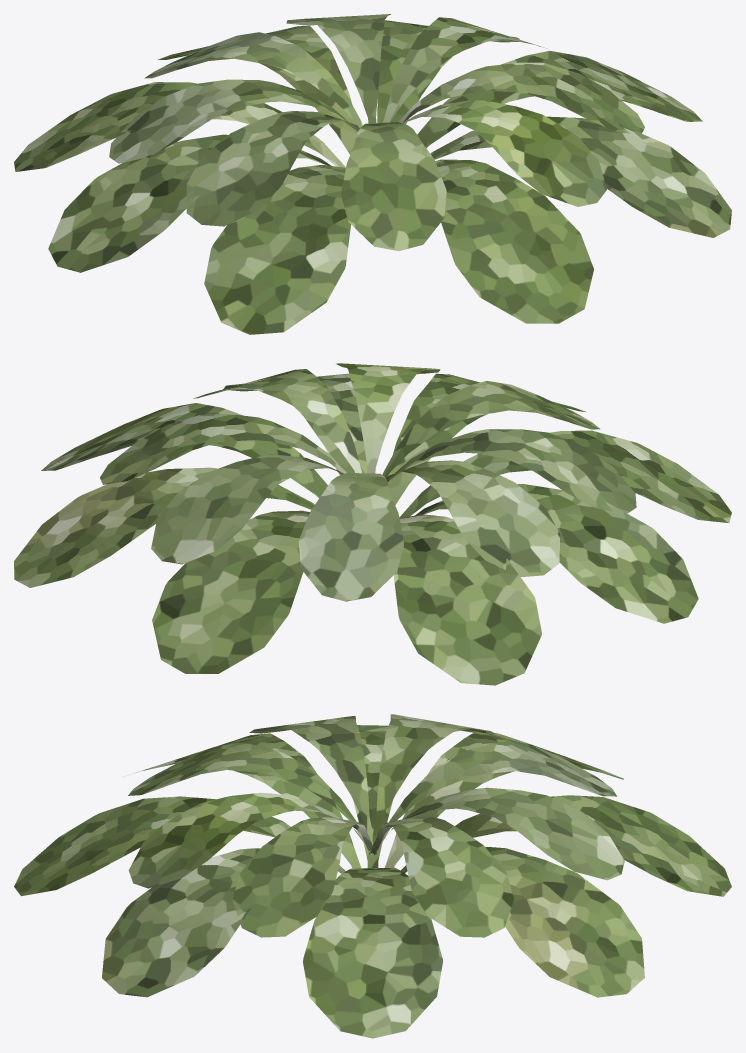
File: herb.fbx
3 views of the same model, one above another, from view 1: azimuth 30°, elevation 25°; view 2: azimuth 150°, elevation 25°; view 3: azimuth 270°, elevation 25° (orthographic). The views are drawn at different scales.
Visible parts, largest first — view 1: polySurface3; view 2: polySurface3; view 3: polySurface3.
Part boxes in pixels (<box>): polySurface3: <box>14,14,731,334</box>; polySurface3: <box>14,363,731,685</box>; polySurface3: <box>14,714,731,1038</box>.
Size of the model in its own units: 1.12 by 0.2213 by 1.12.
1 material, 1 textured.
